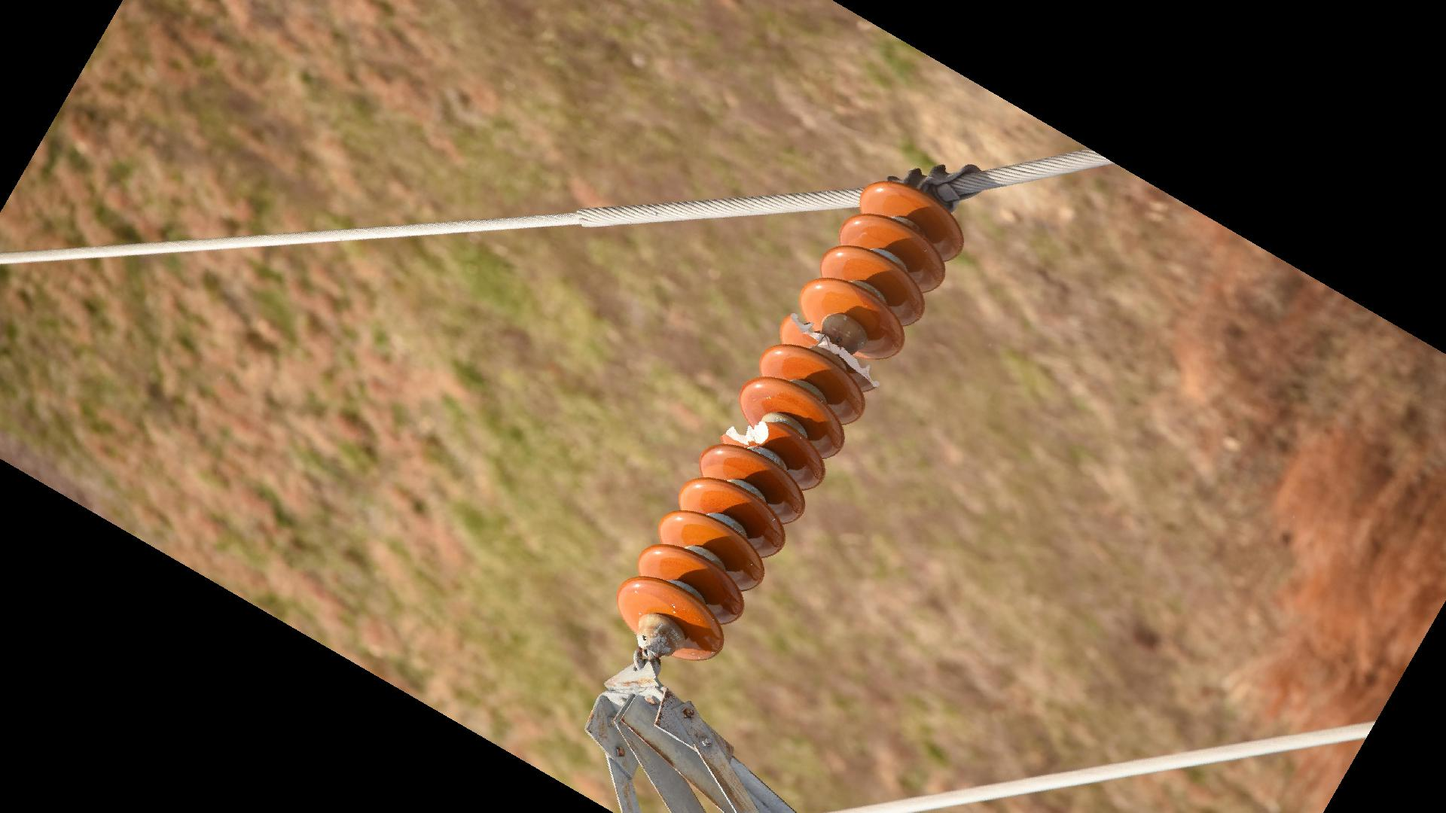insulator: (612, 176, 971, 668)
insulator_breakage: (780, 306, 885, 394), (714, 417, 776, 455)
